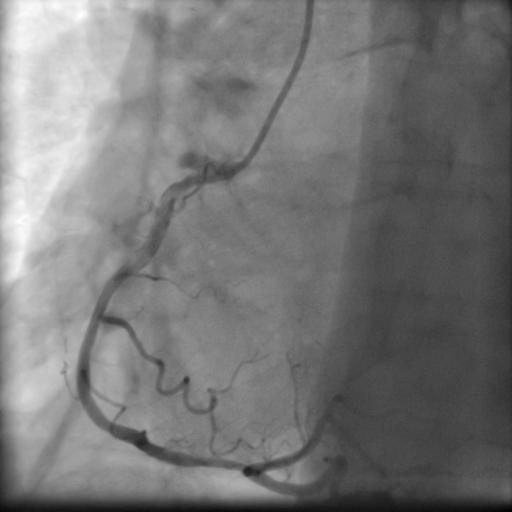Stenosis: (184, 450, 245, 476)
